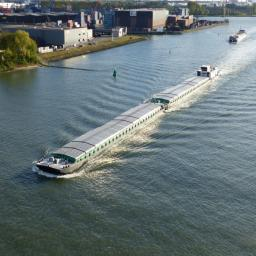tugboat: (196, 64, 221, 82)
